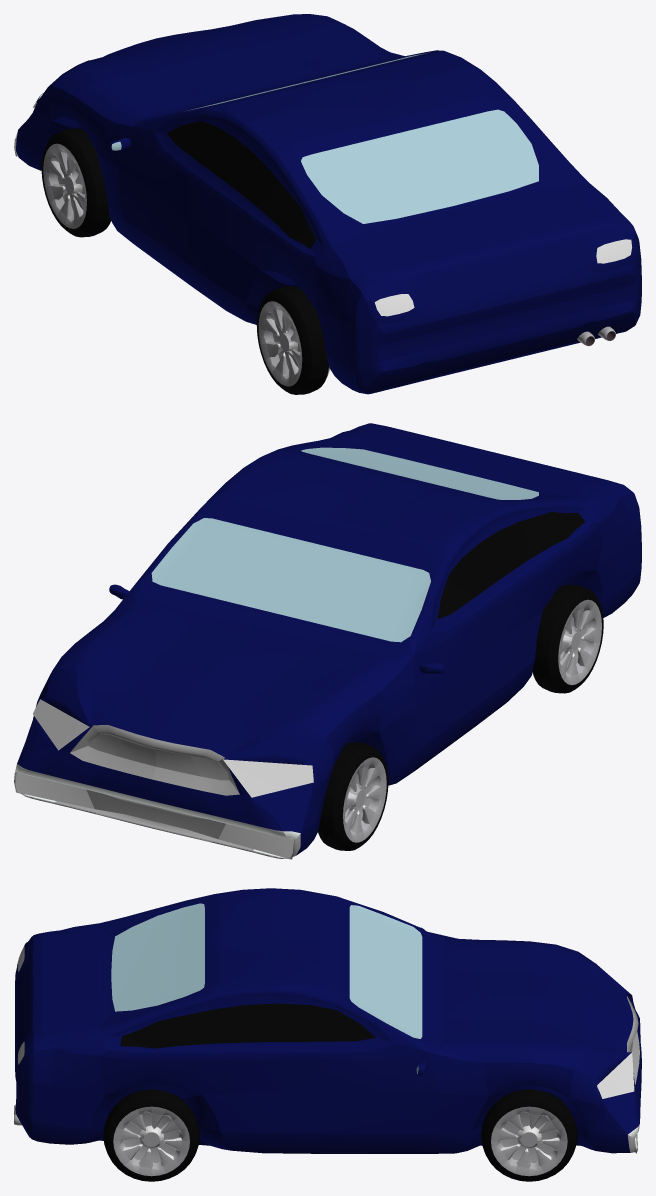
Rendered from Megamo_Opt.fbx.
3 views of the same model, one above another, from view 1: azimuth 30°, elevation 25°; view 2: azimuth 150°, elevation 25°; view 3: azimuth 270°, elevation 25° (orthographic). The views are drawn at different scales.
Visible parts, largest first — view 1: Car_LOD0, B_Tires_002_LOD0, F_Tires_002_LOD0; view 2: Car_LOD0, B_Tires_002_LOD0, F_Tires_002_LOD0; view 3: Car_LOD0, F_Tires_001_LOD0, B_Tires_001_LOD0.
Part boxes in pixels (<box>): Car_LOD0: <box>14,14,641,394</box>; B_Tires_002_LOD0: <box>256,286,329,394</box>; F_Tires_002_LOD0: <box>41,128,111,237</box>; Car_LOD0: <box>14,423,641,859</box>; B_Tires_002_LOD0: <box>532,584,603,693</box>; F_Tires_002_LOD0: <box>317,742,388,850</box>; Car_LOD0: <box>15,888,641,1153</box>; F_Tires_001_LOD0: <box>481,1089,577,1181</box>; B_Tires_001_LOD0: <box>103,1089,199,1181</box>.
Size of what is drawn, in the model's own units: 236 by 143 by 436.
